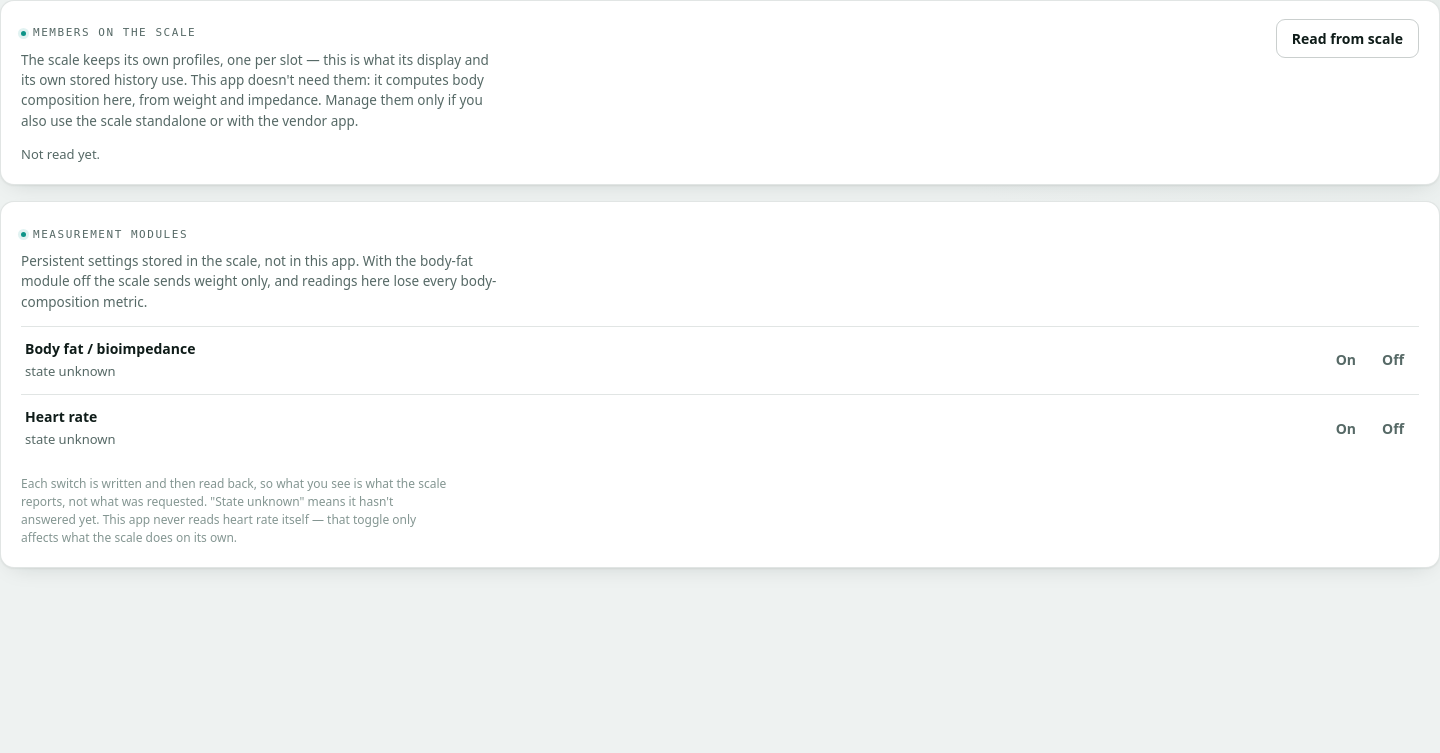
Test: DevicePanel › does not keep the name when the scale rejects the add
Click the button "Read from scale".
click(1347, 38)  # box x1=1276 y1=19 x2=1419 y2=58
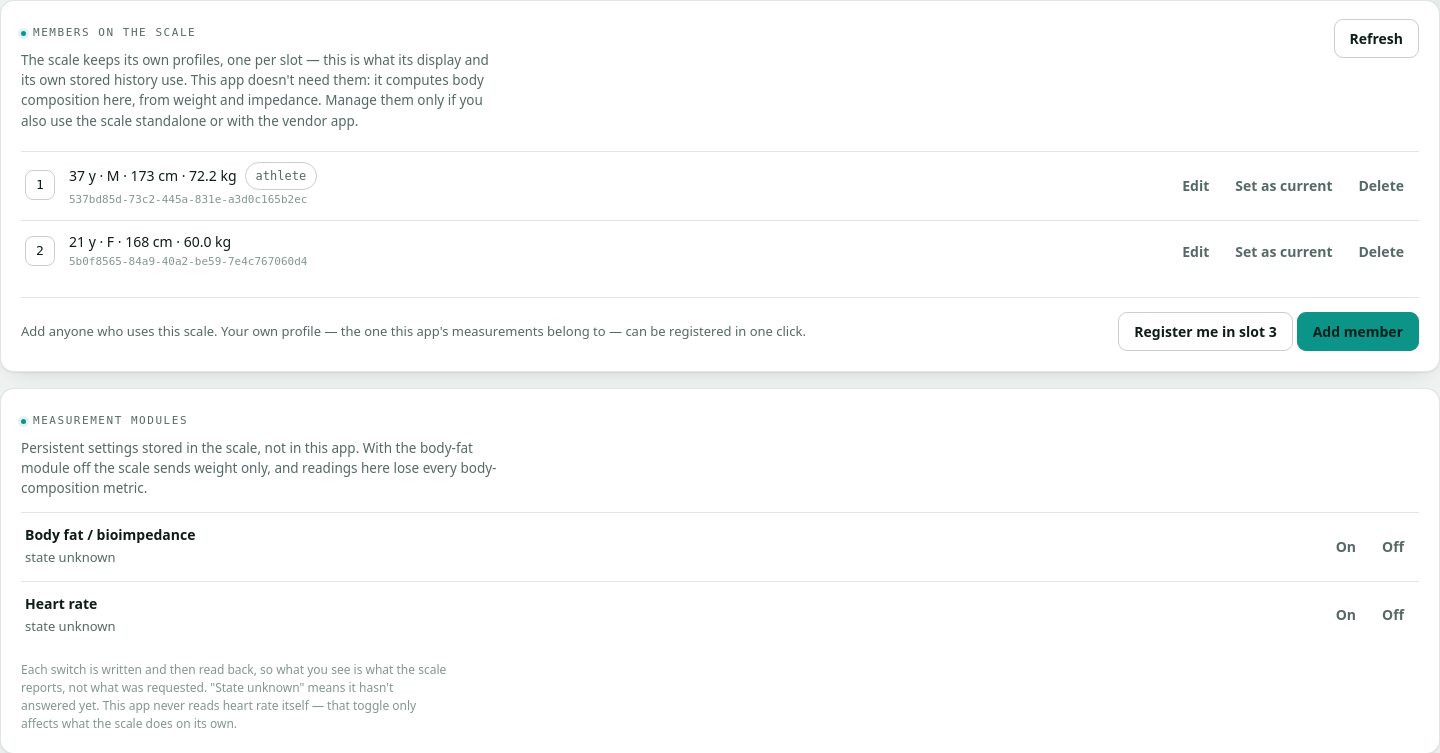
Click the button "Add member".
click(1358, 331)  # box x1=1297 y1=312 x2=1419 y2=351
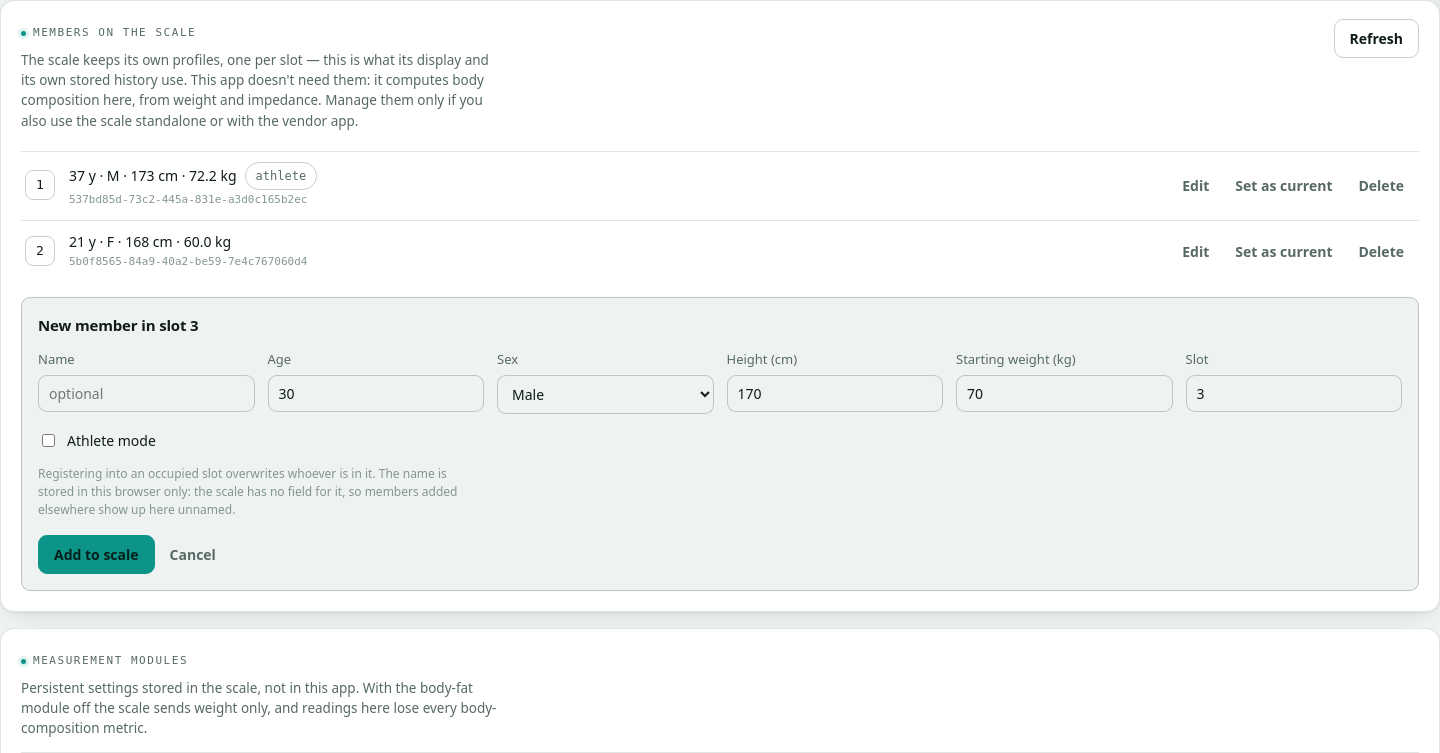
Type "Ghost" into the field labelled "Name".
click(146, 393); type("Ghost")  # box x1=38 y1=375 x2=254 y2=412
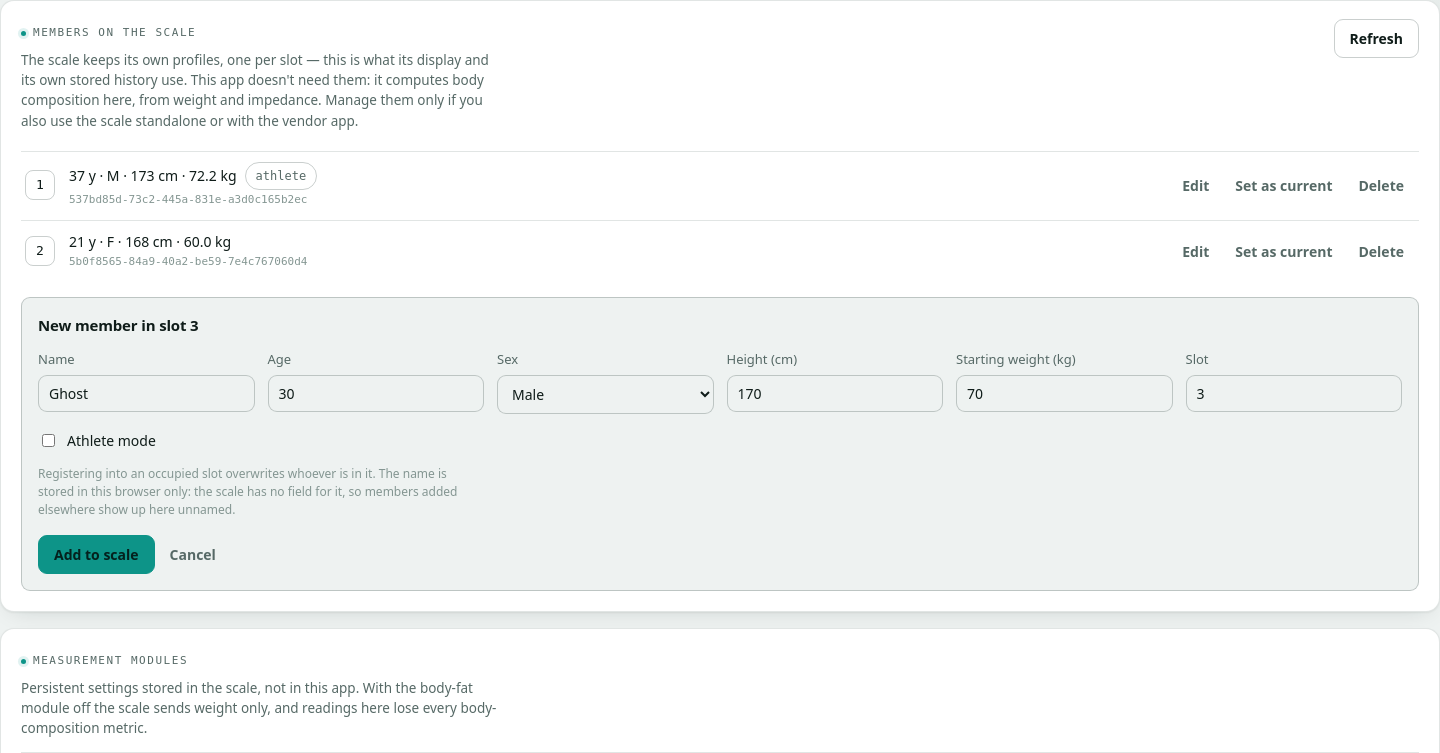
Click the button "Add to scale".
click(96, 554)  # box x1=38 y1=535 x2=155 y2=574
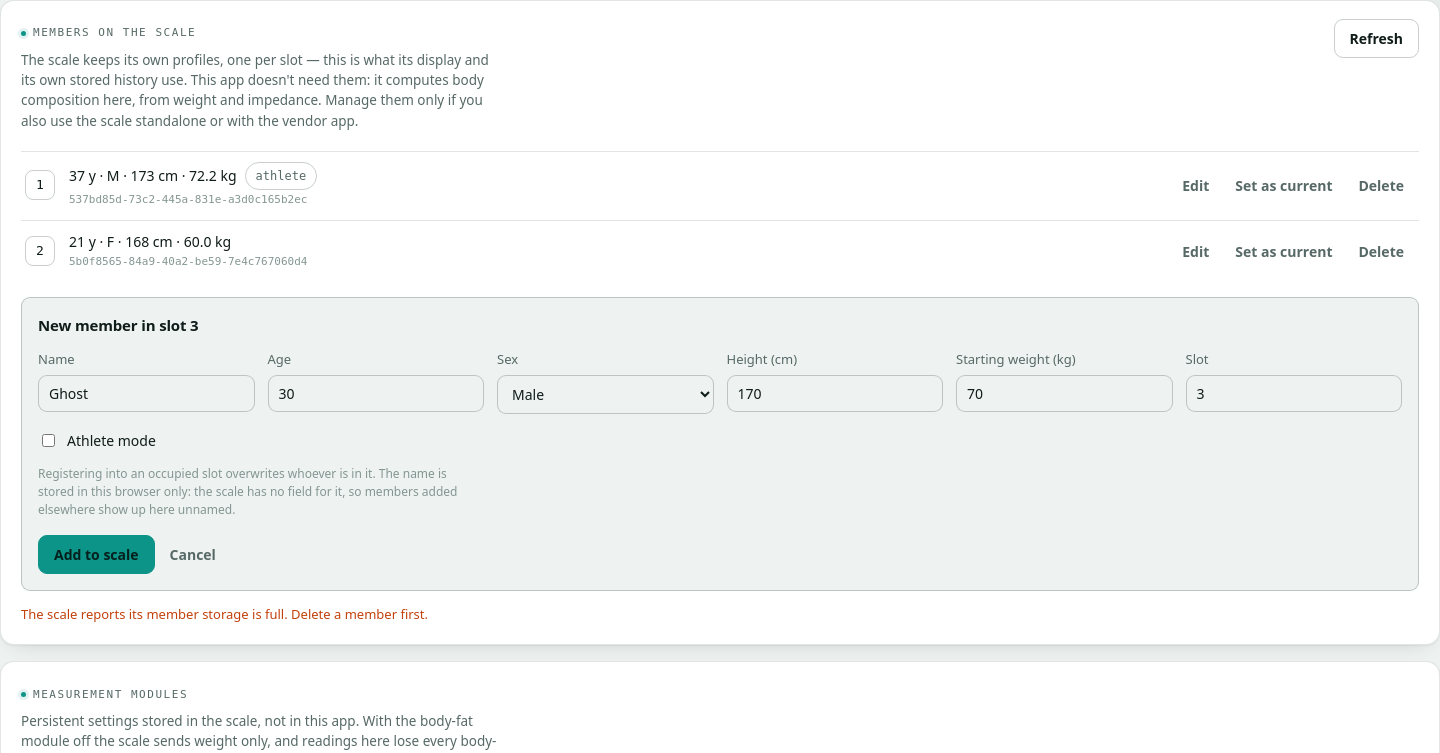
Check: the text "storage is full" is shown, box x1=21 y1=605 x2=428 y2=623
